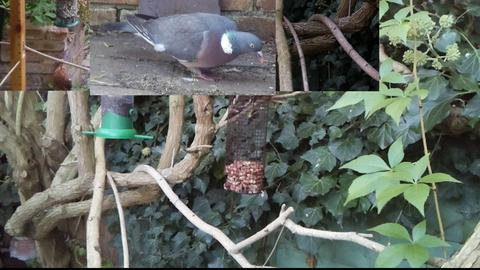wood pigeon: (102, 12, 263, 83)
